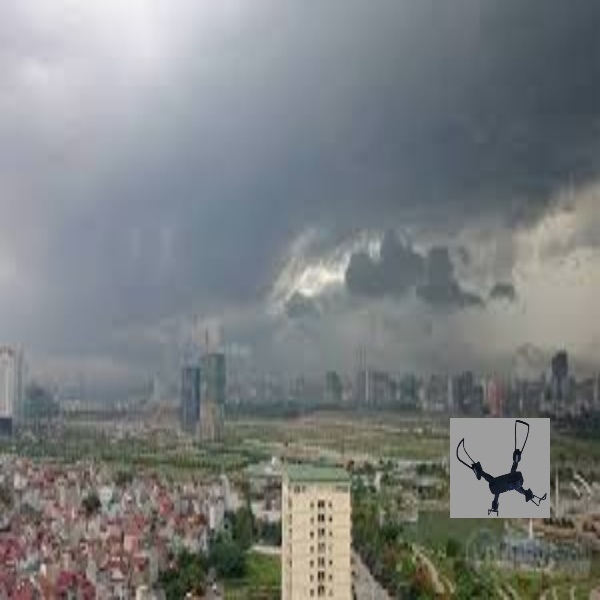drone: (451, 417, 550, 514)
